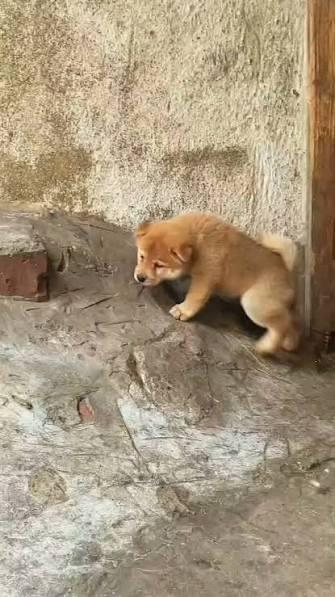puppy-dog: (133, 213, 305, 360)
